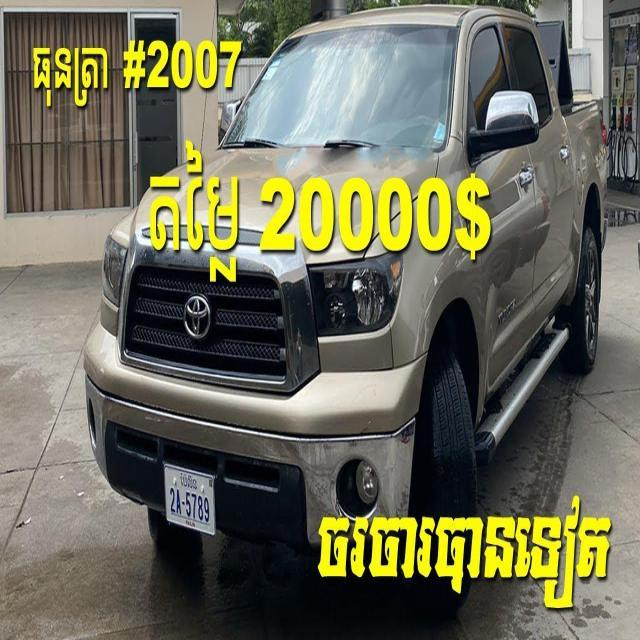Pailin: (180, 472, 198, 490)
